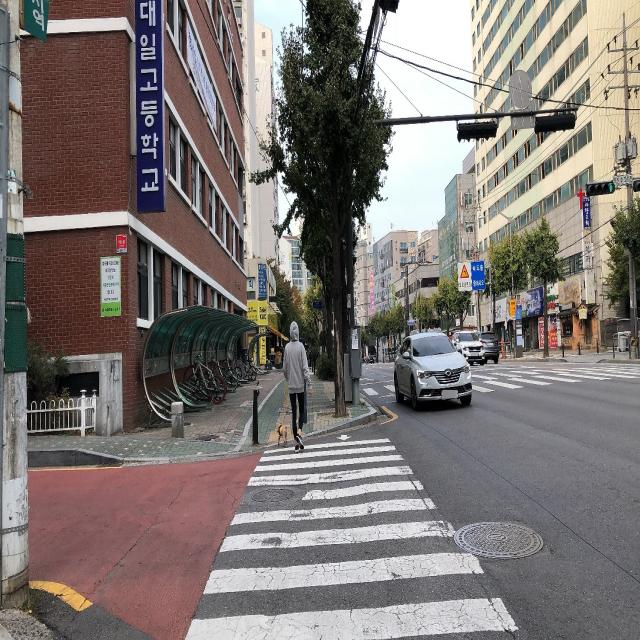횡단보도: (181, 432, 520, 640), (346, 360, 640, 389)
